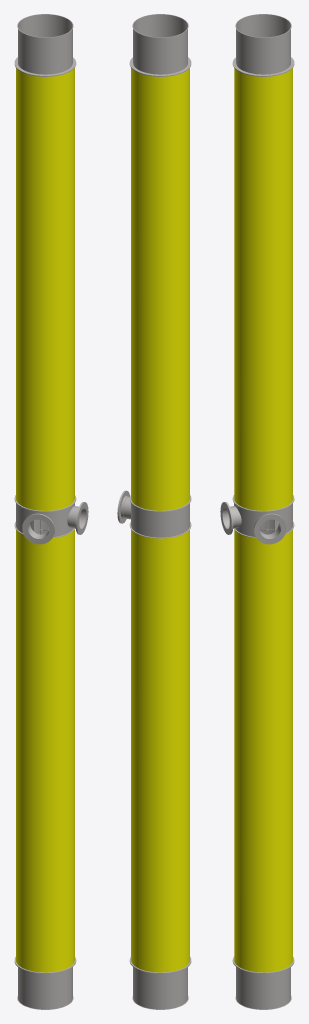
The model's file is (SBS) vent column.glb.
3 views of the same model, side by side, from view 1: azimuth 30°, elevation 25°; view 2: azimuth 210°, elevation 25°; view 3: azimuth 330°, elevation 25° (orthographic).
Visible parts, largest first — view 1: Solid1 (×5), Solid3; view 2: Solid1 (×5); view 3: Solid1 (×5), Solid3.
Boxes of the visible parts, left/top/right/bottom form: Solid1 (×5): left=14, top=14, right=88, bottom=1009; Solid3: left=30, top=519, right=48, bottom=534; Solid1 (×5): left=117, top=14, right=191, bottom=1009; Solid1 (×5): left=220, top=14, right=294, bottom=1009; Solid3: left=260, top=519, right=278, bottom=534.
Size of the model in its own units: 1.12 by 15.61 by 1.05.
